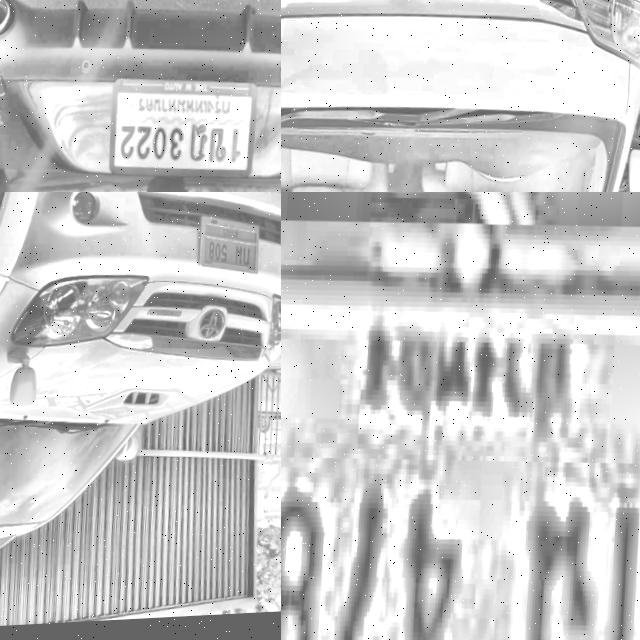license-plate: (281, 198, 640, 640), (107, 74, 255, 192), (195, 220, 262, 285)
